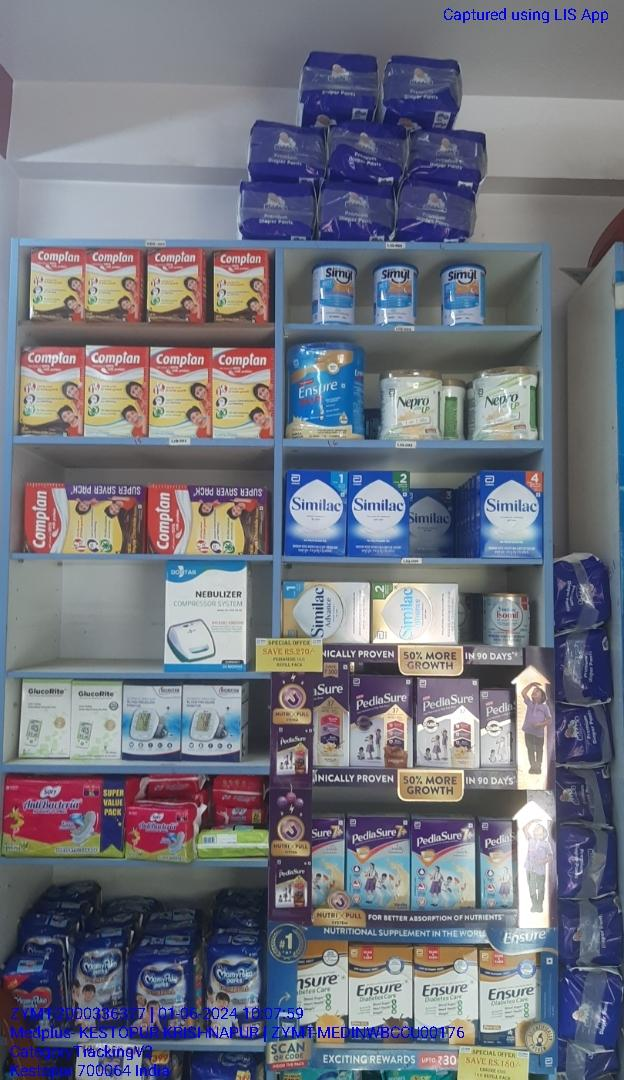COMPLAN_CHOCOLATE_200_GMS_PACK: (213, 249, 269, 323), (30, 249, 84, 322), (148, 249, 202, 321), (86, 250, 138, 323)
COMPLAN_CHOCOLATE_500_GMS_PACK: (18, 344, 84, 436)
COMPLAN_CREAMY_CLASSIC_500_G_PACK: (85, 345, 147, 440), (149, 345, 211, 439), (212, 346, 274, 436)
